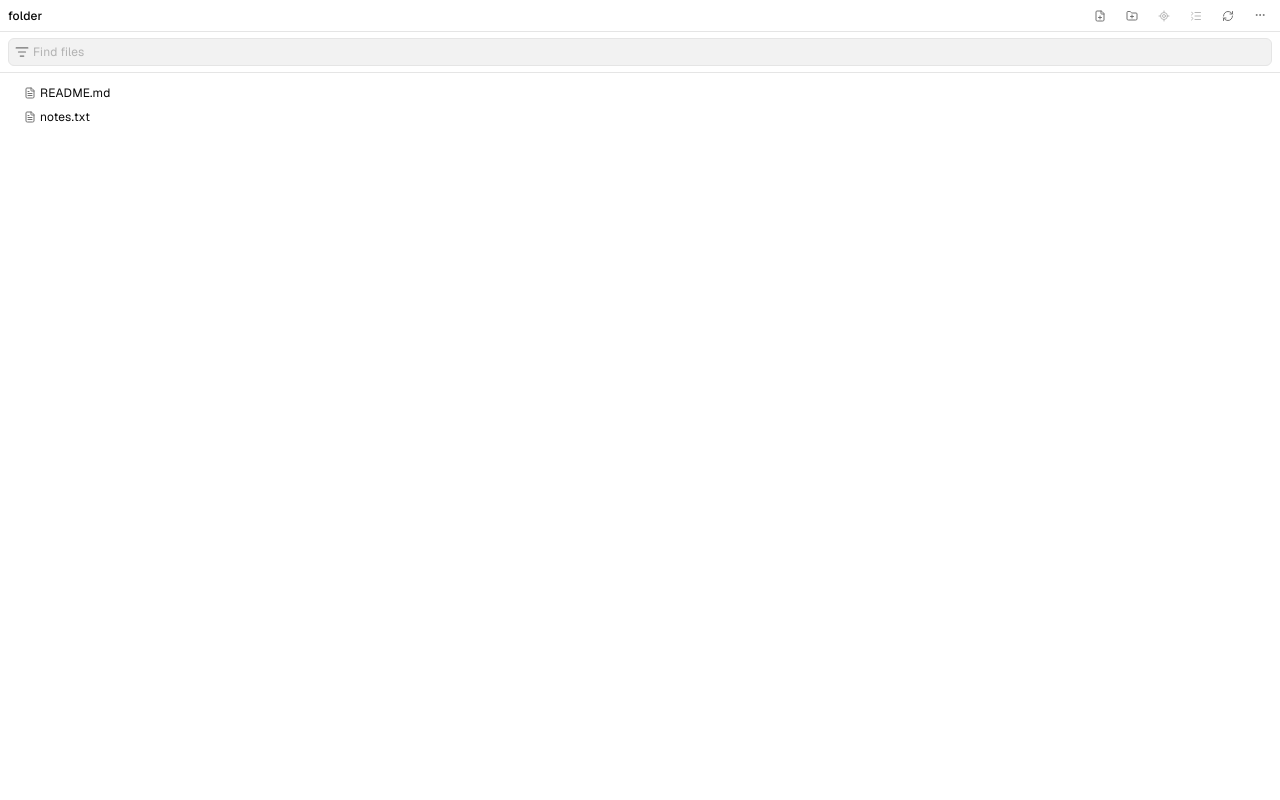
Scenario: delete (#157) › confirms with the permanent copy and drops the row without a Refresh
The image size is (1280, 800).
Right-click the button "notes.txt".
right_click(65, 117)  # box x1=0 y1=105 x2=1279 y2=129
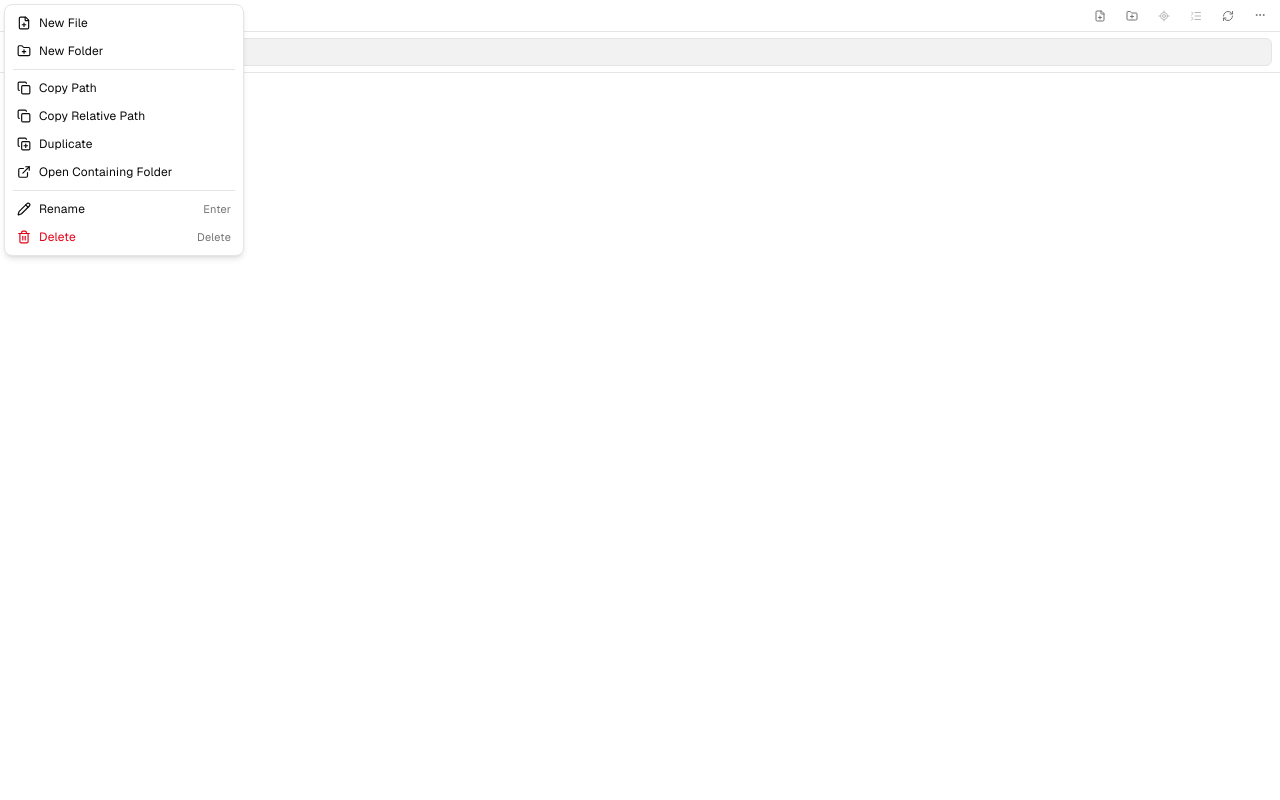
Click the menu item "Delete Delete".
click(124, 237)  # box x1=9 y1=223 x2=239 y2=251
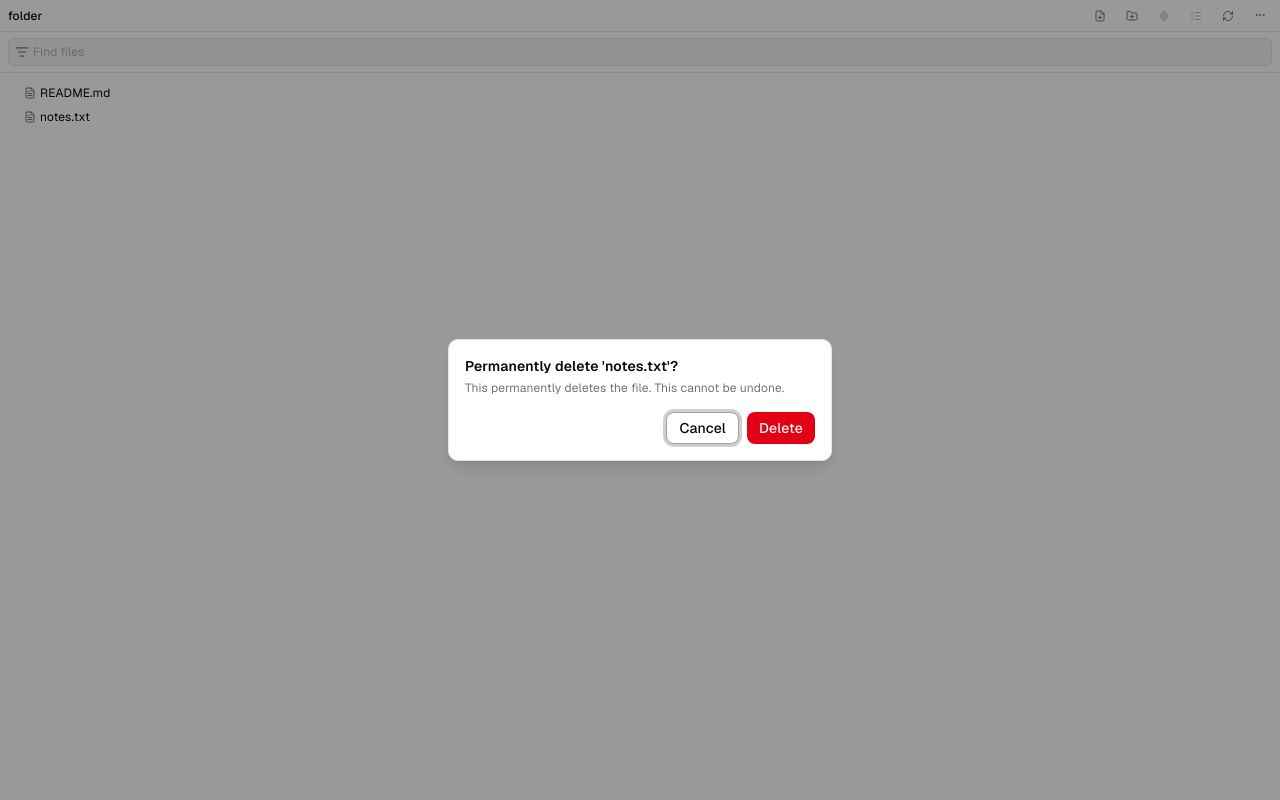
Expected: the dialog shows "Permanently delete 'notes.txt'?", x1=465 y1=357 x2=678 y2=375
Expected: the dialog shows "This permanently deletes the file.", x1=465 y1=380 x2=784 y2=396
Click the button "Delete".
click(781, 428)  # box x1=747 y1=412 x2=815 y2=444
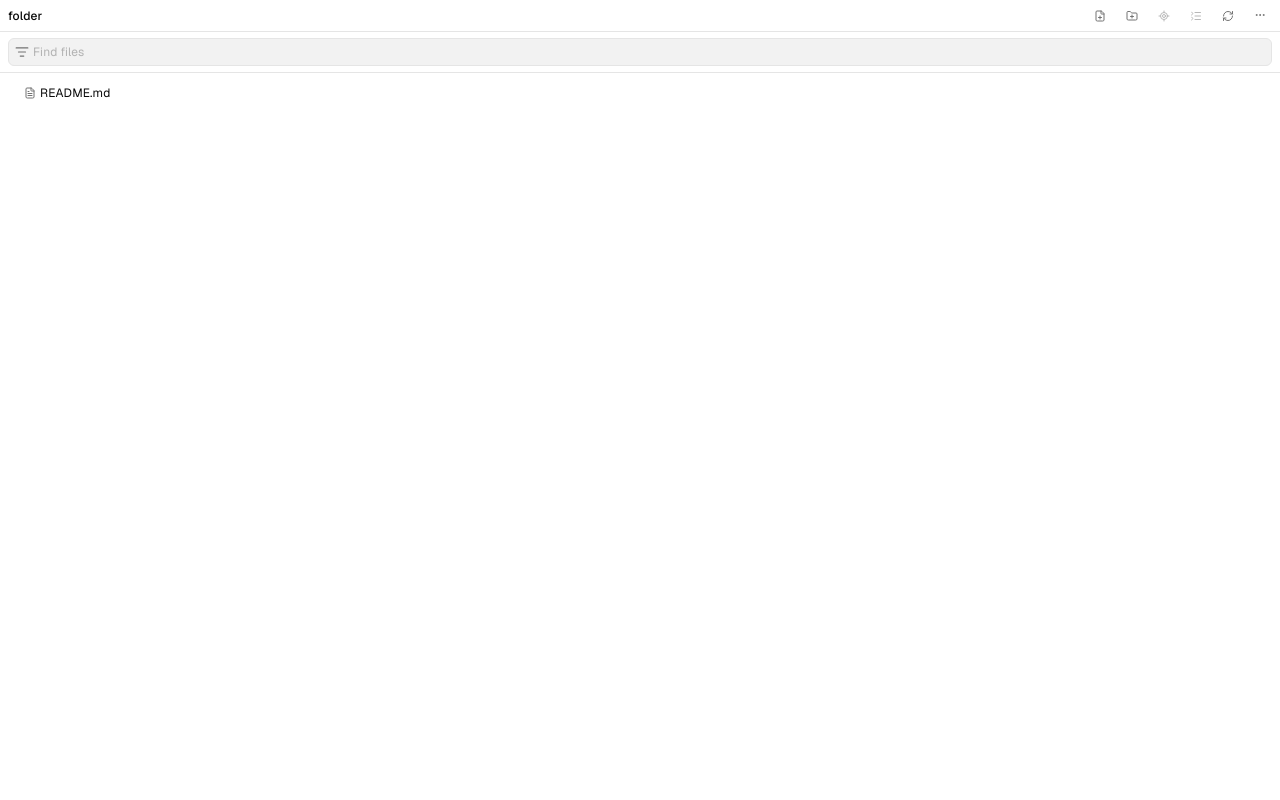
Expected: the button "README.md" is shown, x1=0 y1=81 x2=1279 y2=105
Expected: the dialog is gone
Expected: the button "notes.txt" is gone
